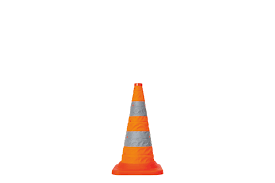cones: (110, 82, 162, 176)
